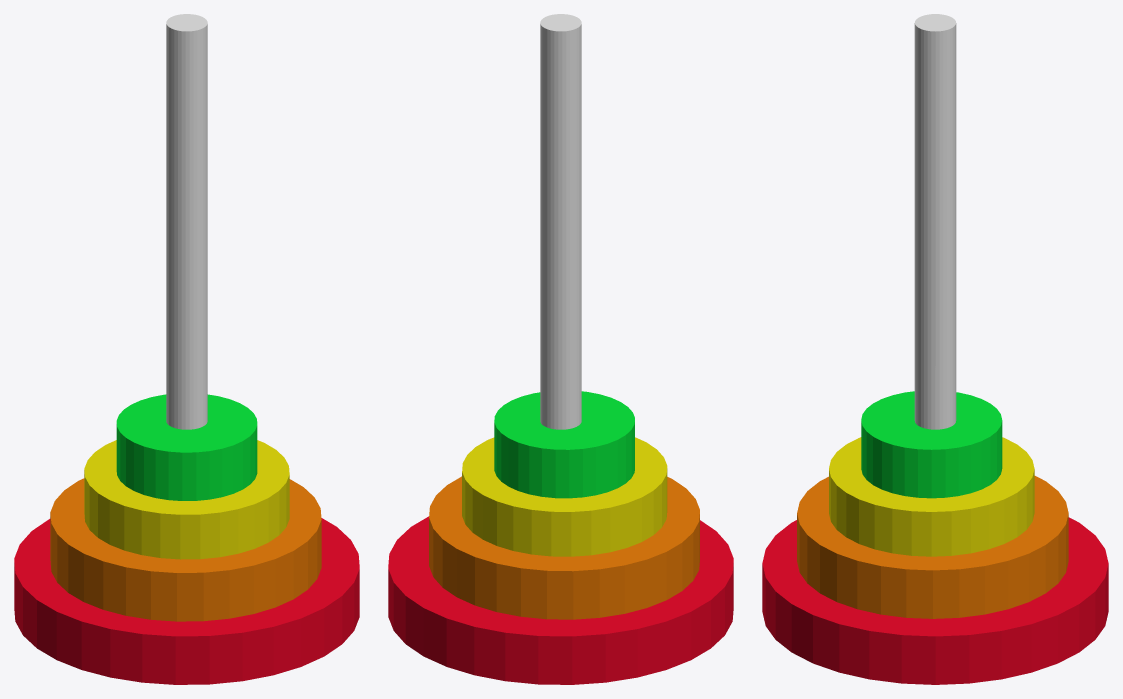
The model's file is Towers of Hanoi 4 Ring.fbx.
The picture shows the model from 3 angles, left to right: view 1: azimuth 30°, elevation 25°; view 2: azimuth 150°, elevation 25°; view 3: azimuth 270°, elevation 25°; orthographic projection.
Visible parts, largest first — view 1: Cylinder.001, Cylinder.002, Cylinder, Cylinder.003, Cylinder.004; view 2: Cylinder.001, Cylinder.002, Cylinder, Cylinder.003, Cylinder.004; view 3: Cylinder.001, Cylinder.002, Cylinder, Cylinder.003, Cylinder.004.
Part boxes in pixels (<box>): Cylinder.001: <box>14,518,359,684</box>; Cylinder.002: <box>50,478,321,621</box>; Cylinder: <box>166,14,207,429</box>; Cylinder.003: <box>84,440,289,559</box>; Cylinder.004: <box>116,394,257,500</box>; Cylinder.001: <box>388,516,733,684</box>; Cylinder.002: <box>429,476,699,619</box>; Cylinder: <box>540,14,581,429</box>; Cylinder.003: <box>462,437,667,556</box>; Cylinder.004: <box>494,391,634,498</box>; Cylinder.001: <box>762,517,1108,684</box>; Cylinder.002: <box>797,476,1068,618</box>; Cylinder: <box>914,14,956,429</box>; Cylinder.003: <box>829,437,1034,556</box>; Cylinder.004: <box>861,391,1002,498</box>.
Bounding box in the file's own units: 270 × 506 × 270.
